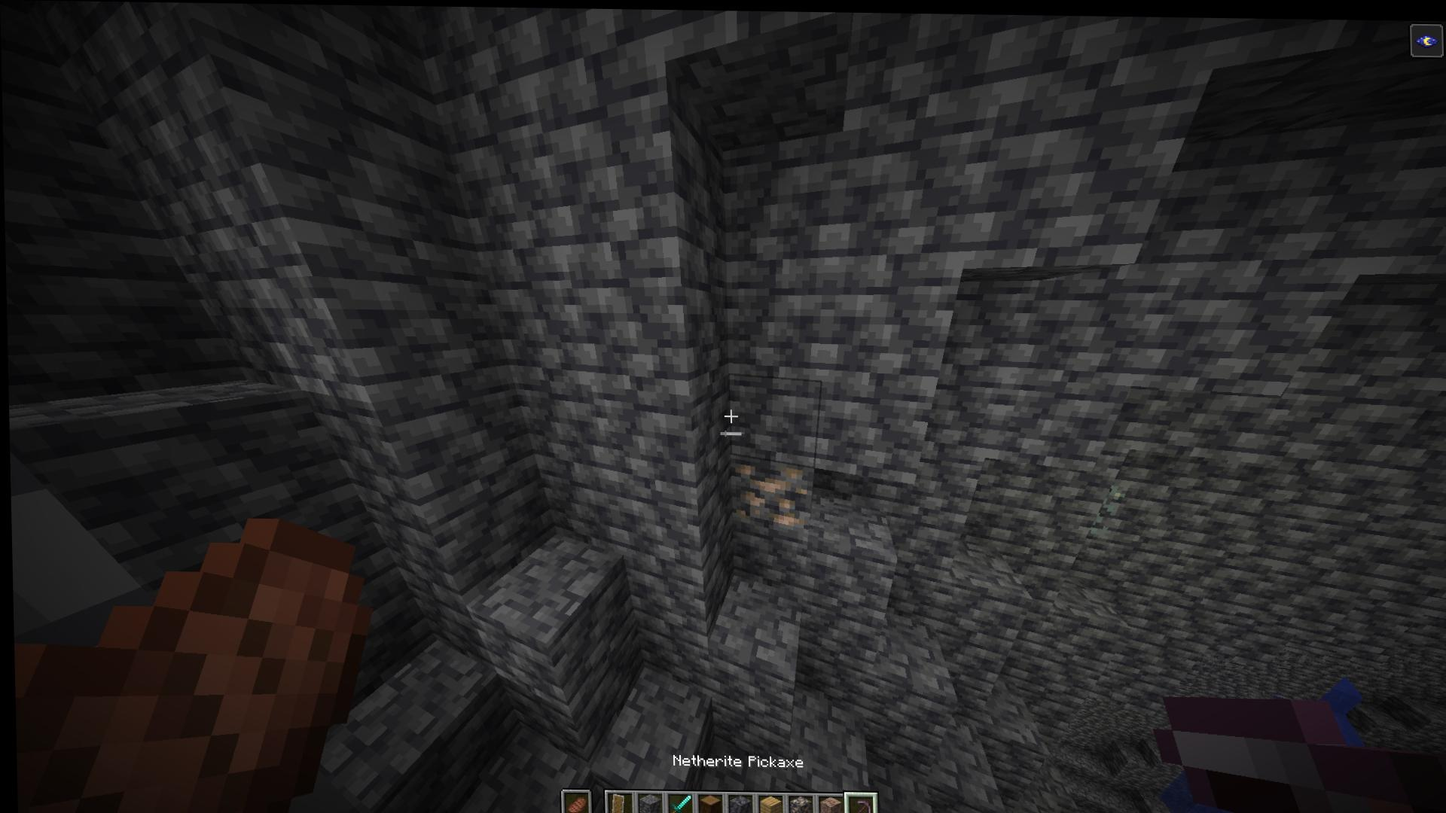iron ore: (726, 454, 817, 535)
